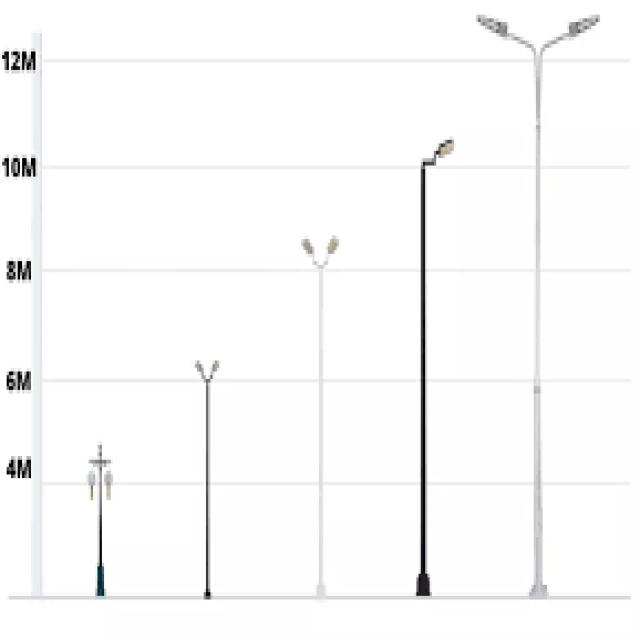Street Light: (474, 11, 600, 596), (416, 140, 454, 600), (299, 232, 341, 600), (193, 356, 219, 600), (84, 445, 113, 596)
